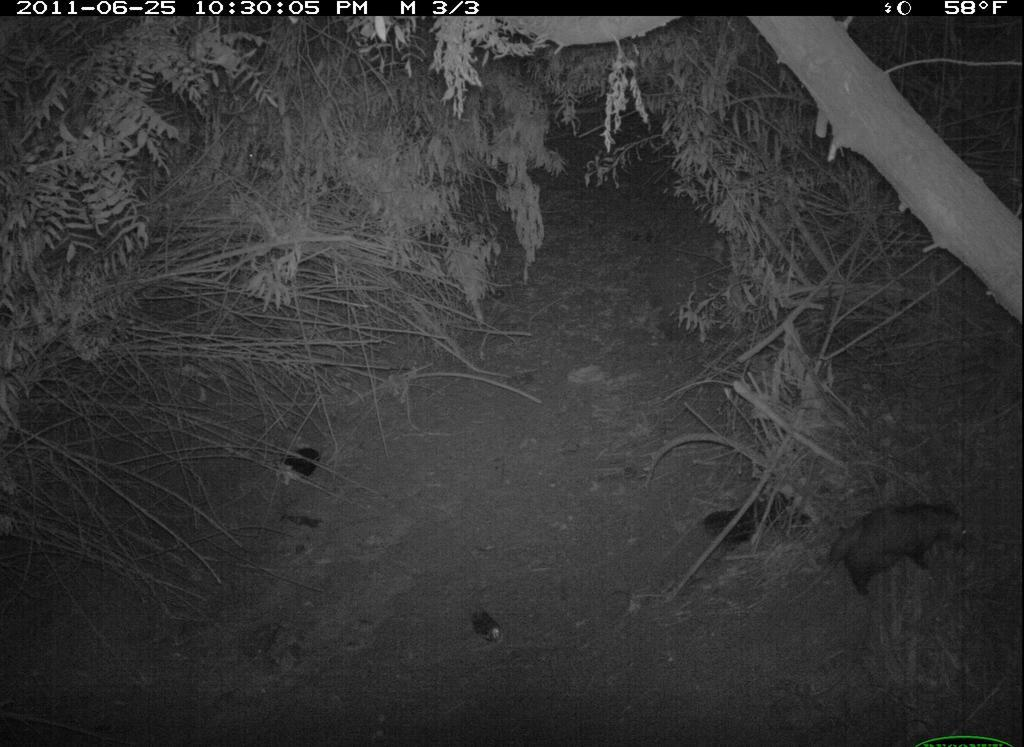opossum: (820, 482, 978, 603)
